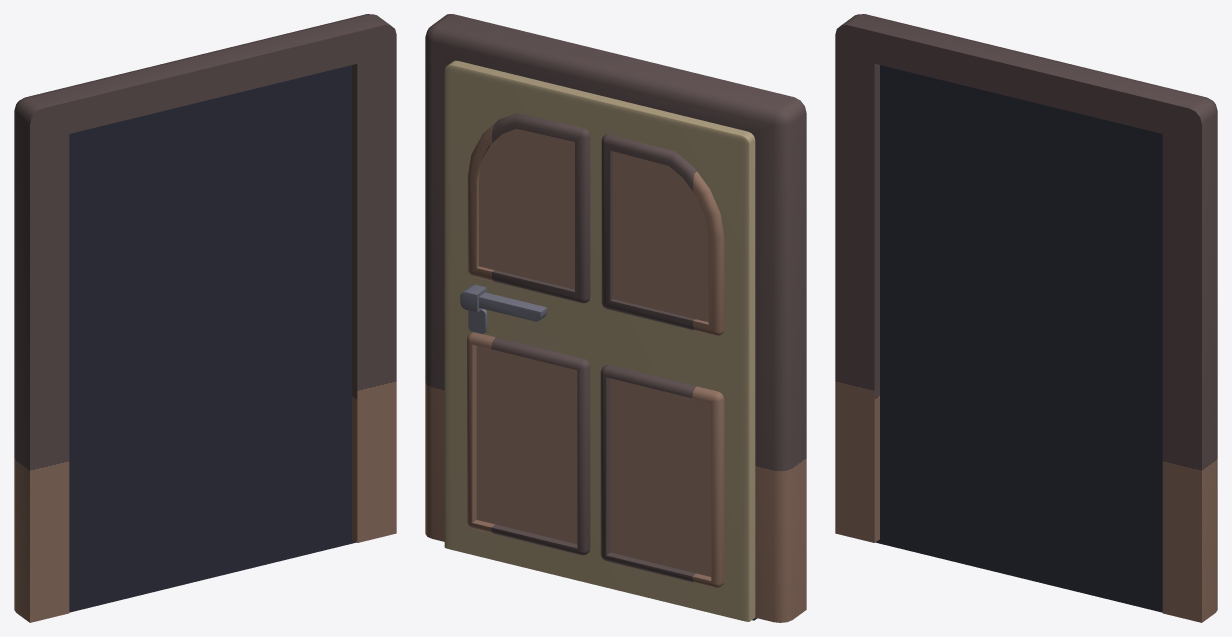
The model's file is marcopuerta.fbx.
The picture shows the model from 3 angles, left to right: view 1: azimuth 30°, elevation 25°; view 2: azimuth 150°, elevation 25°; view 3: azimuth 330°, elevation 25°; orthographic projection.
Visible parts, largest first — view 1: fondopuerta.001, marcopuerta_00.001; view 2: puerta.002, marcopuerta_00.001; view 3: fondopuerta.001, marcopuerta_00.001.
Part boxes in pixels (bbox=[...]): fondopuerta.001: bbox=[69, 65, 355, 612]; marcopuerta_00.001: bbox=[14, 14, 396, 622]; puerta.002: bbox=[444, 60, 755, 621]; marcopuerta_00.001: bbox=[425, 14, 806, 622]; fondopuerta.001: bbox=[876, 65, 1162, 612]; marcopuerta_00.001: bbox=[835, 14, 1217, 622].
Bounding box in the file's own units: 300 × 403 × 54.15.
